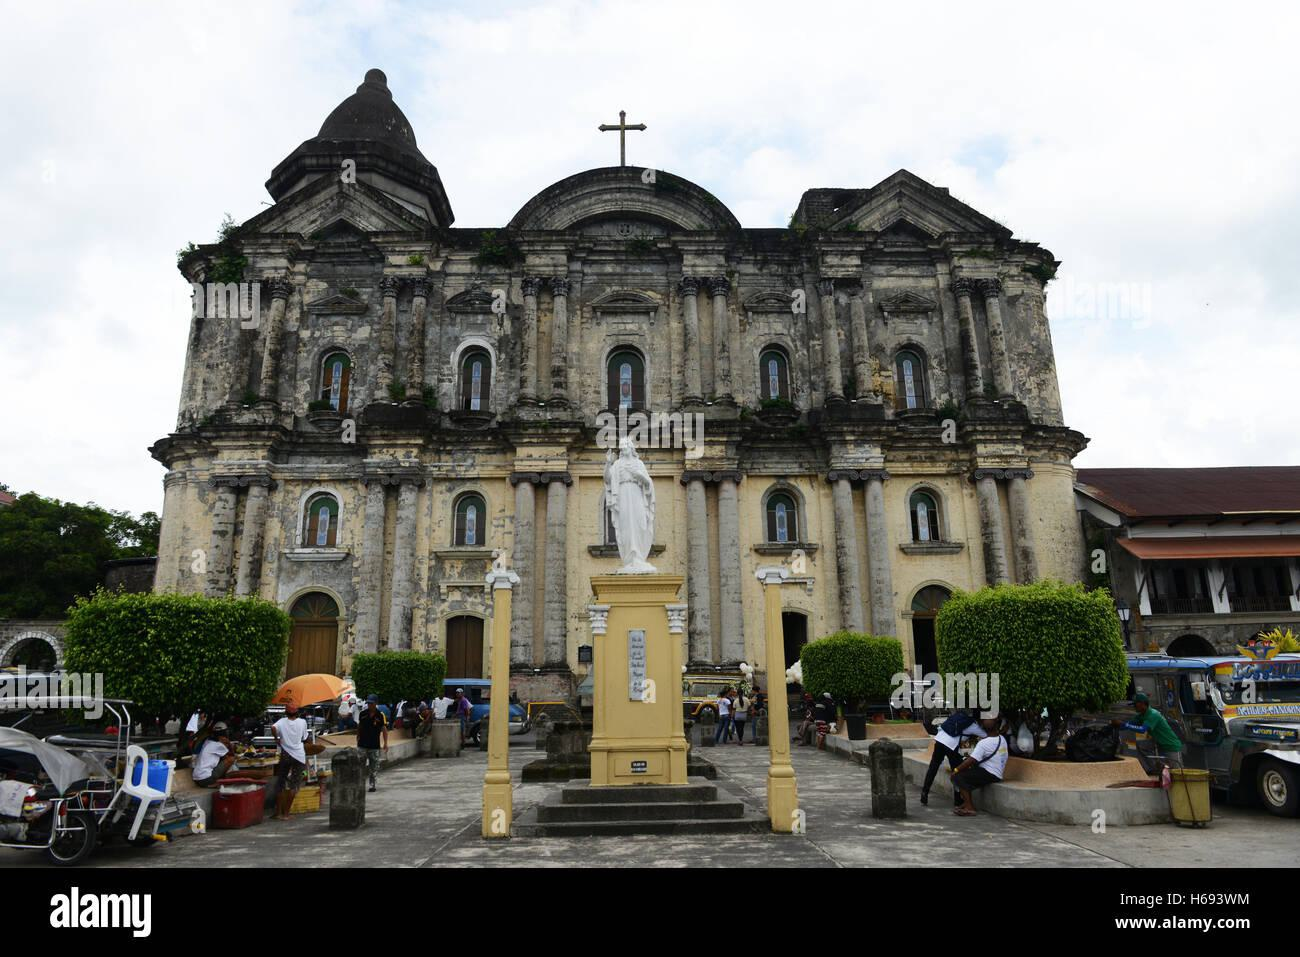taal_basilica_church_taal_batangas: (139, 51, 1108, 736)
